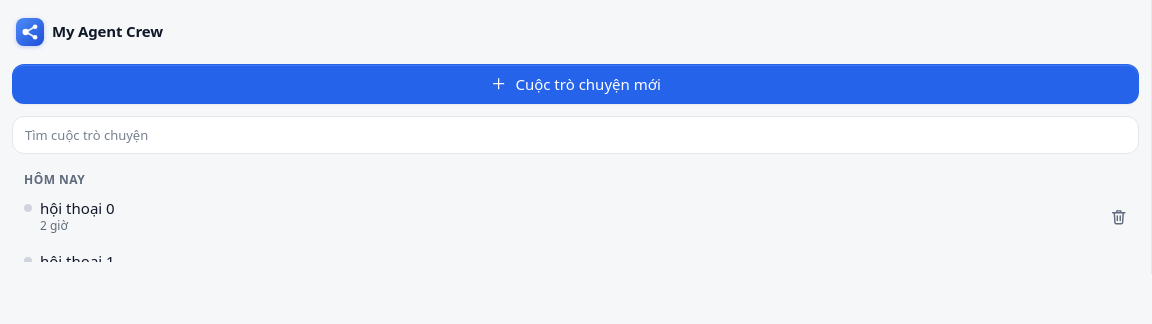
searching inside message content, not just conversation titles › shows a 'Trong nội dung' section once the debounced content search answers
In the search field labelled "Tìm cuộc trò chuyện": [576, 135] box [12,116,1139,154], type "doc sach"
Wait 250 ms
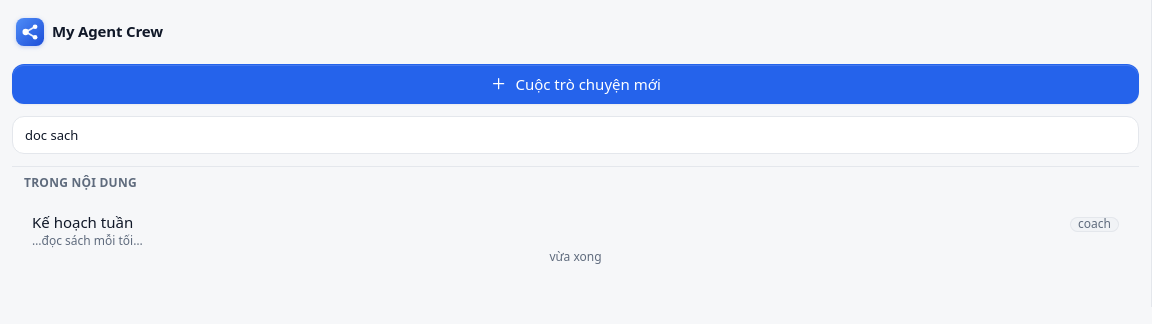
Check: the heading "Trong nội dung" is shown, box [24,174,137,191]
Check: the button "Kế hoạch tuần coach …đọc sách mỗi tối… vừa xong" is shown, box [24,205,1127,272]
